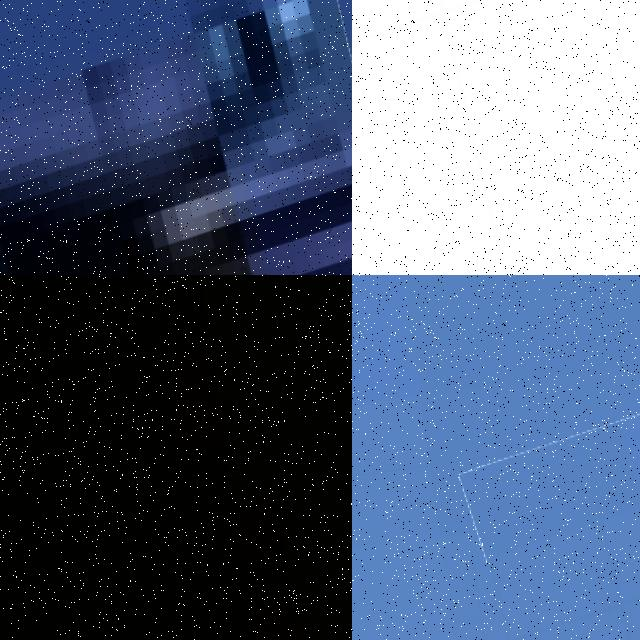0: (0, 0, 352, 275), (468, 382, 640, 640)
drone: (352, 0, 640, 275)
